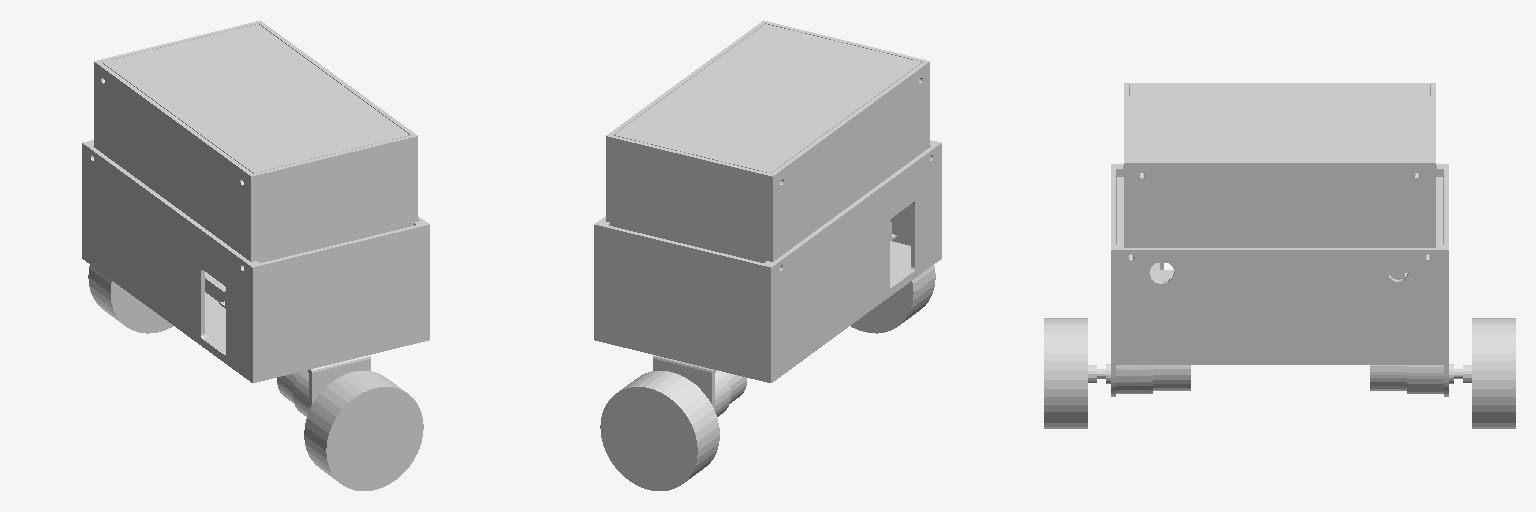
robot.urdf — RobotTwoWheel:
<?xml version="1.0" encoding="utf-8"?>
<!-- This URDF was automatically created by SolidWorks to URDF Exporter! Originally created by Stephen Brawner (brawner@gmail.com) 
     Commit Version: 1.6.0-4-g7f85cfe  Build Version: 1.6.7995.38578
     For more information, please see http://wiki.ros.org/sw_urdf_exporter -->
<robot
  name="RobotTwoWheel">
  <link
    name="base_link">
    <inertial>
      <origin
        xyz="-0.00041536 0 0.053748"
        rpy="0 0 0" />
      <mass
        value="0.96749" />
      <inertia
        ixx="0.0031337"
        ixy="1.2543E-05"
        ixz="1.968E-06"
        iyy="0.0013751"
        iyz="-3.4582E-06"
        izz="0.003964" />
    </inertial>
    <visual>
      <origin
        xyz="0 0 0"
        rpy="0 0 0" />
      <geometry>
        <mesh
          filename="package://RobotTwoWheel/meshes/base_link.STL" />
      </geometry>
      <material
        name="">
        <color
          rgba="0.89412 0.89412 0.89412 1" />
      </material>
    </visual>
    <collision>
      <origin
        xyz="0 0 0"
        rpy="0 0 0" />
      <geometry>
        <mesh
          filename="package://RobotTwoWheel/meshes/base_link.STL" />
      </geometry>
    </collision>
  </link>
  <link
    name="link_L">
    <inertial>
      <origin
        xyz="-4.6778E-18 -0.013041 6.9389E-18"
        rpy="0 0 0" />
      <mass
        value="0.089143" />
      <inertia
        ixx="2.9296E-05"
        ixy="4.5049E-21"
        ixz="-6.1401E-37"
        iyy="4.844E-05"
        iyz="-4.4817E-21"
        izz="2.9296E-05" />
    </inertial>
    <visual>
      <origin
        xyz="0 0 0"
        rpy="0 0 0" />
      <geometry>
        <mesh
          filename="package://RobotTwoWheel/meshes/link_L.STL" />
      </geometry>
      <material
        name="">
        <color
          rgba="0.89412 0.89412 0.89412 1" />
      </material>
    </visual>
    <collision>
      <origin
        xyz="0 0 0"
        rpy="0 0 0" />
      <geometry>
        <mesh
          filename="package://RobotTwoWheel/meshes/link_L.STL" />
      </geometry>
    </collision>
  </link>
  <joint
    name="joint_L"
    type="continuous">
    <origin
      xyz="-0.00037164 0.1395 -0.034"
      rpy="0 0 0" />
    <parent
      link="base_link" />
    <child
      link="link_L" />
    <axis
      xyz="0 1 0" />
  </joint>
  <link
    name="link_R">
    <inertial>
      <origin
        xyz="-9.7571E-19 0.013041 6.9389E-18"
        rpy="0 0 0" />
      <mass
        value="0.089143" />
      <inertia
        ixx="2.9296E-05"
        ixy="7.7611E-23"
        ixz="-4.7658E-38"
        iyy="4.844E-05"
        iyz="2.3654E-21"
        izz="2.9296E-05" />
    </inertial>
    <visual>
      <origin
        xyz="0 0 0"
        rpy="0 0 0" />
      <geometry>
        <mesh
          filename="package://RobotTwoWheel/meshes/link_R.STL" />
      </geometry>
      <material
        name="">
        <color
          rgba="0.89412 0.89412 0.89412 1" />
      </material>
    </visual>
    <collision>
      <origin
        xyz="0 0 0"
        rpy="0 0 0" />
      <geometry>
        <mesh
          filename="package://RobotTwoWheel/meshes/link_R.STL" />
      </geometry>
    </collision>
  </link>
  <joint
    name="joint_R"
    type="continuous">
    <origin
      xyz="-0.00037164 -0.1395 -0.034"
      rpy="0 0 0" />
    <parent
      link="base_link" />
    <child
      link="link_R" />
    <axis
      xyz="0 1 0" />
  </joint>
</robot>

--- Render facts (derived) ---
3 views of the same robot in one strip: view 1: azimuth 30°, elevation 25°; view 2: azimuth 150°, elevation 25°; view 3: azimuth 270°, elevation 25° (orthographic).
Model RobotTwoWheel with 3 links and 2 joints (2 continuous), rooted at base_link, posed all joints at 0.
Links seen in each view (by area): view 1: base_link, link_R, link_L; view 2: base_link, link_L, link_R; view 3: base_link, link_L, link_R.
Link boxes in pixels (x1,y1,x2,y2): base_link: (82,20,429,416); link_R: (304,371,423,490); link_L: (88,265,172,333); base_link: (594,20,941,416); link_L: (600,371,719,490); link_R: (851,265,935,333); base_link: (1097,83,1462,396); link_L: (1463,318,1515,428); link_R: (1044,318,1096,428).
Size in the robot's own frame: 0.12 by 0.279 by 0.1969 metres.
Meshes: 3 distinct files referenced, 3 mesh visuals loaded (3 binary STL).
